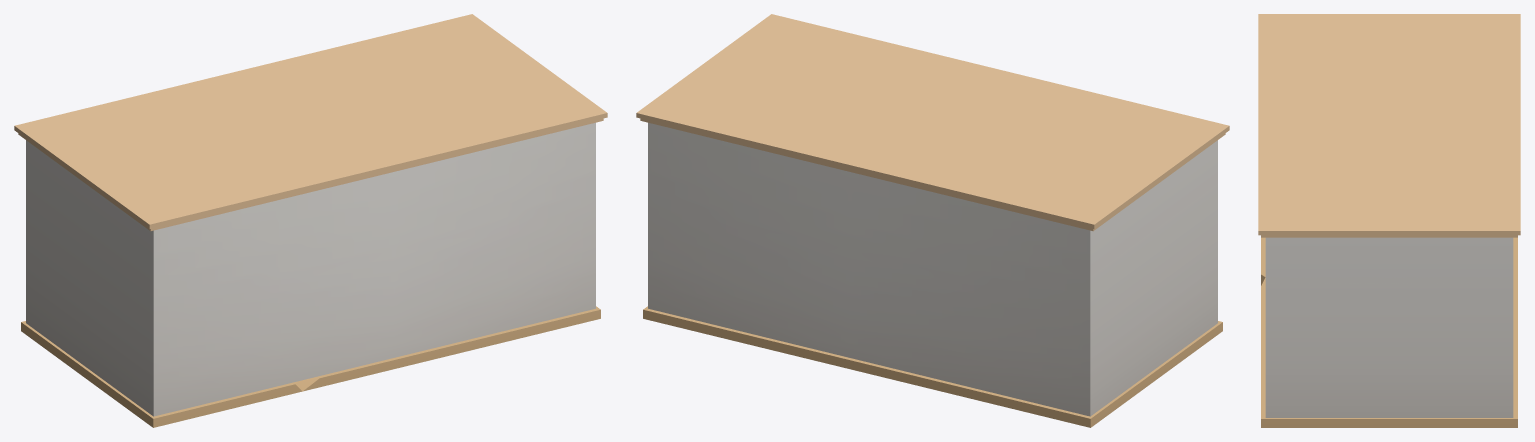
The model's file is Room Long 01.fbx.
3 views of the same model, side by side, from view 1: azimuth 30°, elevation 25°; view 2: azimuth 150°, elevation 25°; view 3: azimuth 270°, elevation 25° (orthographic). The views are drawn at different scales.
Parts seen in each view (by area): view 1: Room Long 01 high, Room Long 01 low; view 2: Room Long 01 high, Room Long 01 low; view 3: Room Long 01 high, Room Long 01 low.
Boxes of the visible parts, left/top/right/bottom form: Room Long 01 high: left=14, top=14, right=607, bottom=427; Room Long 01 low: left=16, top=26, right=595, bottom=416; Room Long 01 high: left=636, top=14, right=1229, bottom=427; Room Long 01 low: left=651, top=114, right=1228, bottom=416; Room Long 01 high: left=1258, top=14, right=1520, bottom=427; Room Long 01 low: left=1260, top=14, right=1520, bottom=417.
Bounding box in the file's own units: 7.76 × 3.33 × 3.97.
1 material, 1 textured.
